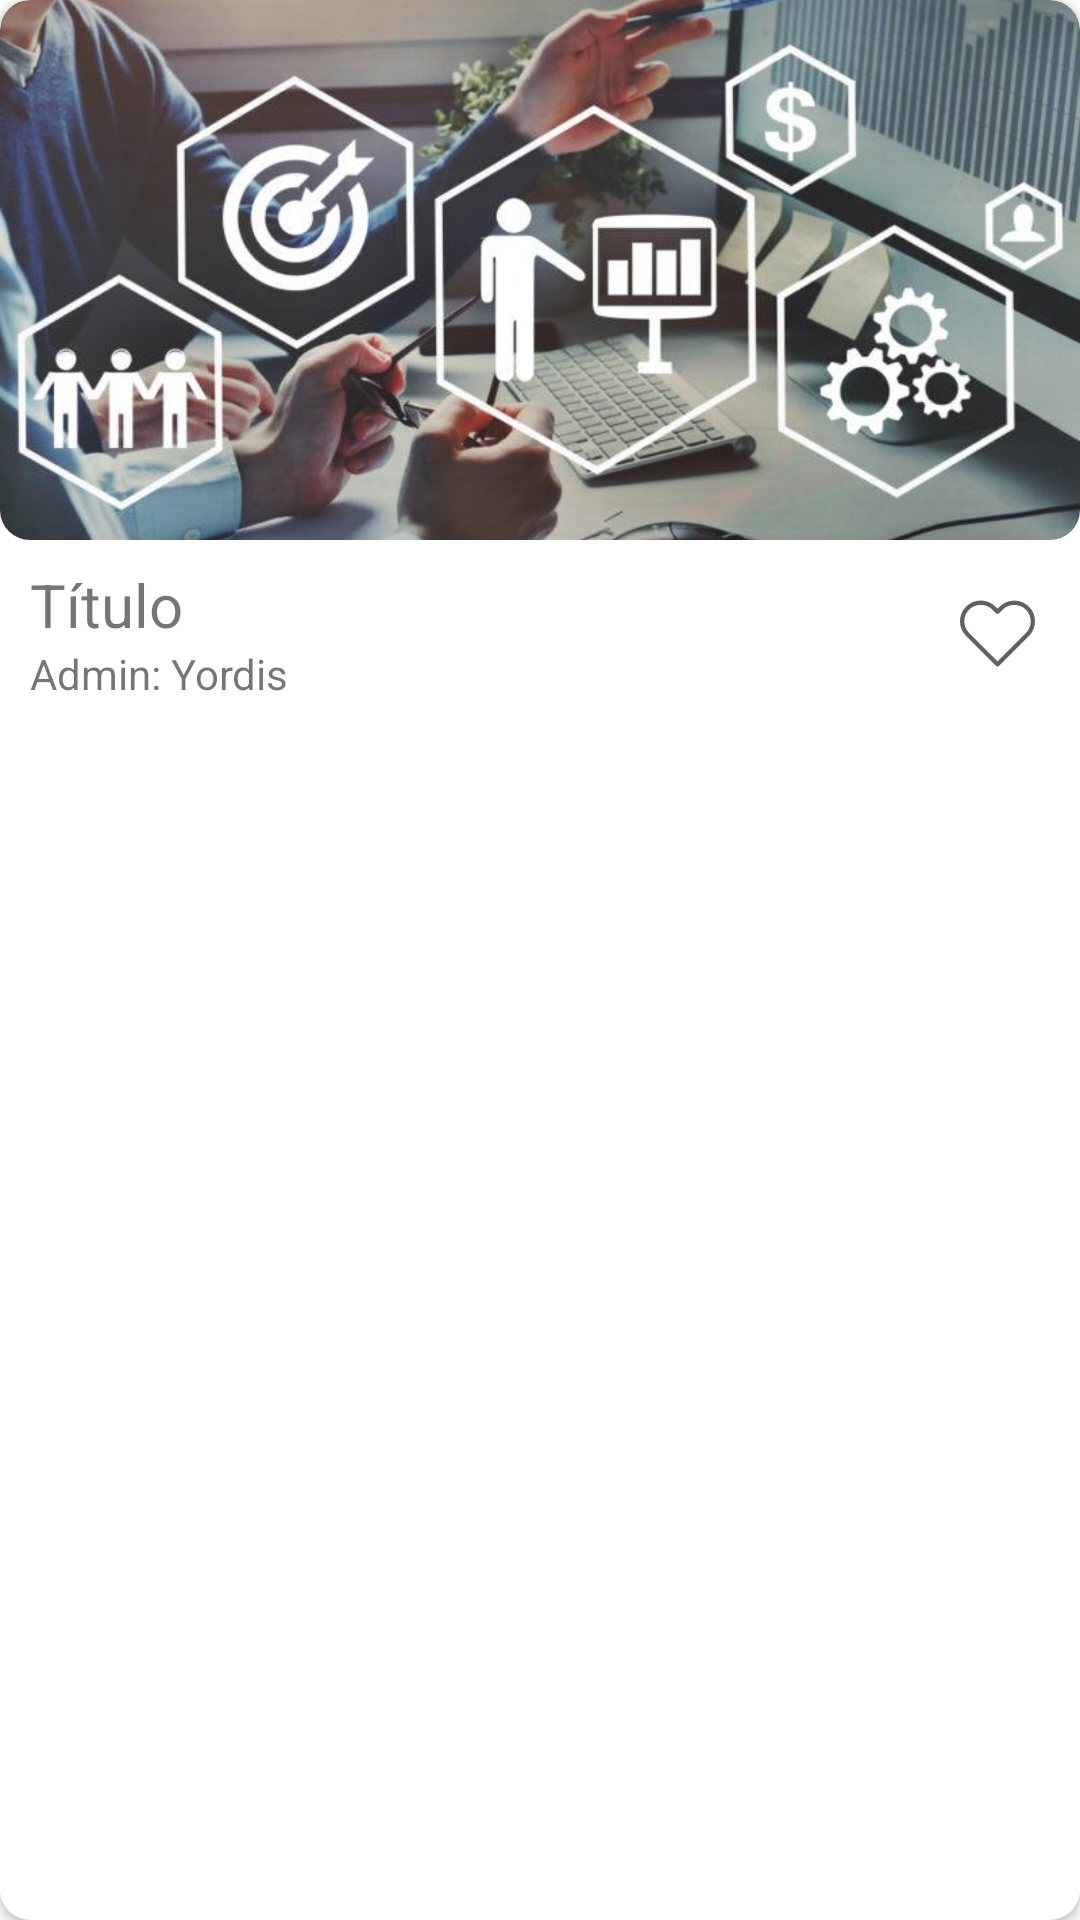

Named icons in this screenshot (1080 x 1920) and their centers, (x=x, y=y):
heart: (x=997, y=633)
